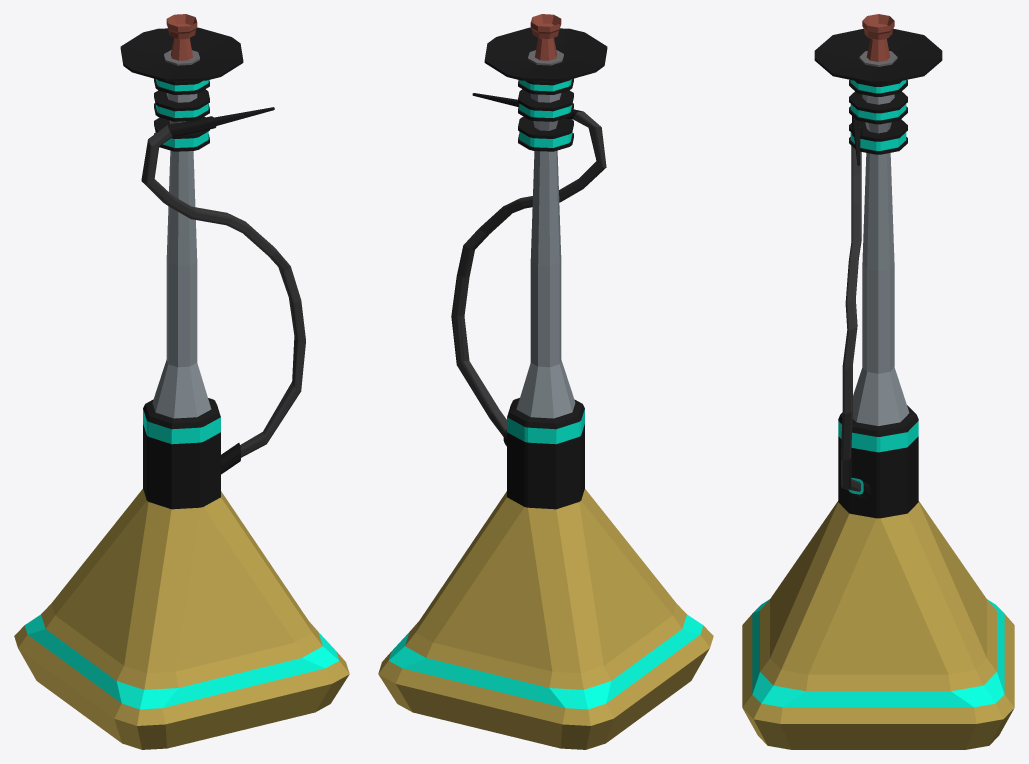
Rendered from Shisha_01.fbx.
The picture shows the model from 3 angles, left to right: view 1: azimuth 30°, elevation 25°; view 2: azimuth 150°, elevation 25°; view 3: azimuth 270°, elevation 25°; orthographic projection.
Visible parts, largest first — view 1: BOWL, Shisha, Shisha.004, Shisha.001, Shisha.002; view 2: BOWL, Shisha, Shisha.004, Shisha.002, Shisha.001; view 3: BOWL, Shisha, Shisha.004, Shisha.002, Shisha.001.
Part boxes in pixels (x1,y1,x2,y2): BOWL: (14,489,349,749); Shisha: (120,14,305,509); Shisha.004: (24,614,339,709); Shisha.001: (143,409,220,444); Shisha.002: (155,79,208,147); BOWL: (378,489,713,749); Shisha: (451,14,607,509); Shisha.004: (388,614,703,709); Shisha.002: (519,79,572,147); Shisha.001: (507,409,584,444); BOWL: (742,501,1014,749); Shisha: (814,14,942,518); Shisha.004: (752,599,1004,707); Shisha.002: (850,80,906,150); Shisha.001: (838,421,918,452).
Size of the model in its own units: 36.99 by 102 by 36.99.
